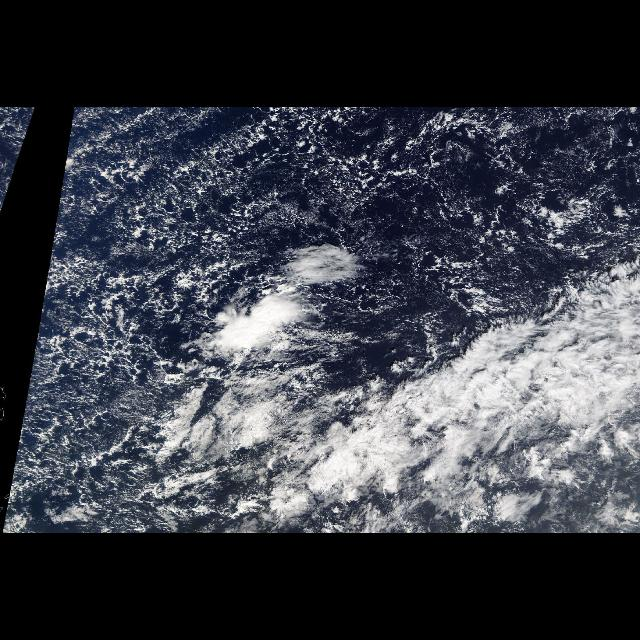Fish: (259, 263, 639, 507)
Gravel: (2, 107, 636, 531), (1, 109, 36, 219)
Sugar: (17, 111, 629, 479)
